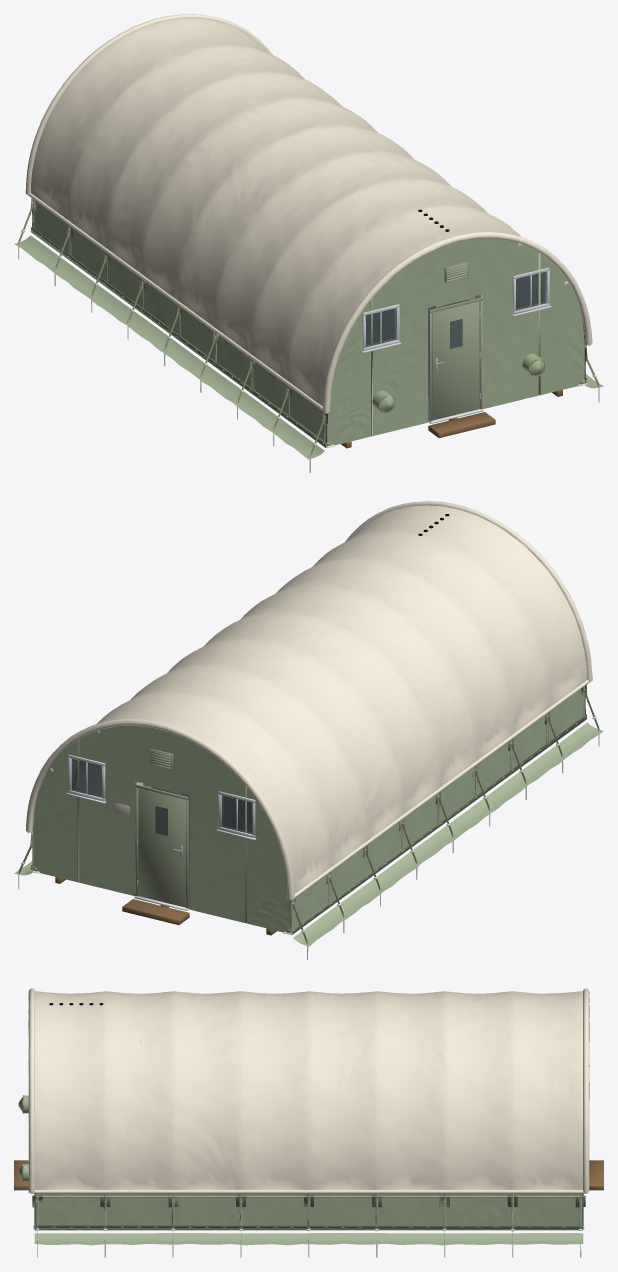
File: series-4-camp.glb
3 views of the same model, one above another, from view 1: azimuth 30°, elevation 25°; view 2: azimuth 150°, elevation 25°; view 3: azimuth 270°, elevation 25° (orthographic). The views are drawn at different scales.
Parts seen in each view (by area): view 1: SERIES4_thermal_cap, SERIES4_shelter, SERIES4_floor; view 2: SERIES4_thermal_cap, SERIES4_shelter, SERIES4_floor; view 3: SERIES4_thermal_cap, SERIES4_shelter, SERIES4_floor.
Part boxes in pixels (bbox=[...]): SERIES4_thermal_cap: bbox=[25, 14, 592, 428]; SERIES4_shelter: bbox=[14, 197, 603, 472]; SERIES4_floor: bbox=[341, 300, 562, 448]; SERIES4_thermal_cap: bbox=[26, 501, 592, 915]; SERIES4_shelter: bbox=[14, 552, 603, 959]; SERIES4_floor: bbox=[55, 787, 276, 935]; SERIES4_thermal_cap: bbox=[28, 988, 589, 1210]; SERIES4_shelter: bbox=[18, 1041, 585, 1257]; SERIES4_floor: bbox=[14, 1160, 603, 1190].
Bounding box in the file's own units: 5.71 × 3.76 × 10.59.
